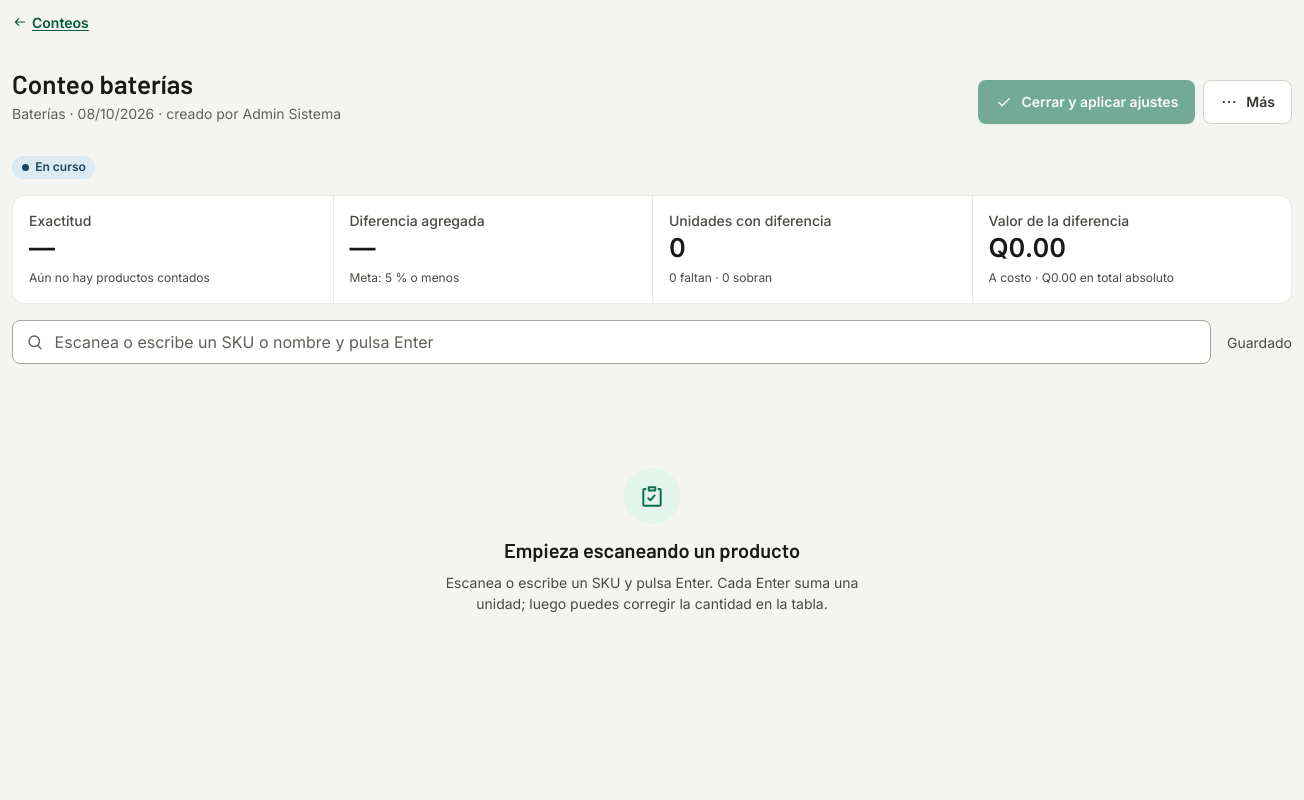
Test case: ConteoDetallePage › avisa cuando el SKU no existe en el alcance del conteo
Type "zzz" into the dropdown named "buscar o escanear" at x=612, y=342, box [12, 320, 1211, 364]
Then press Enter
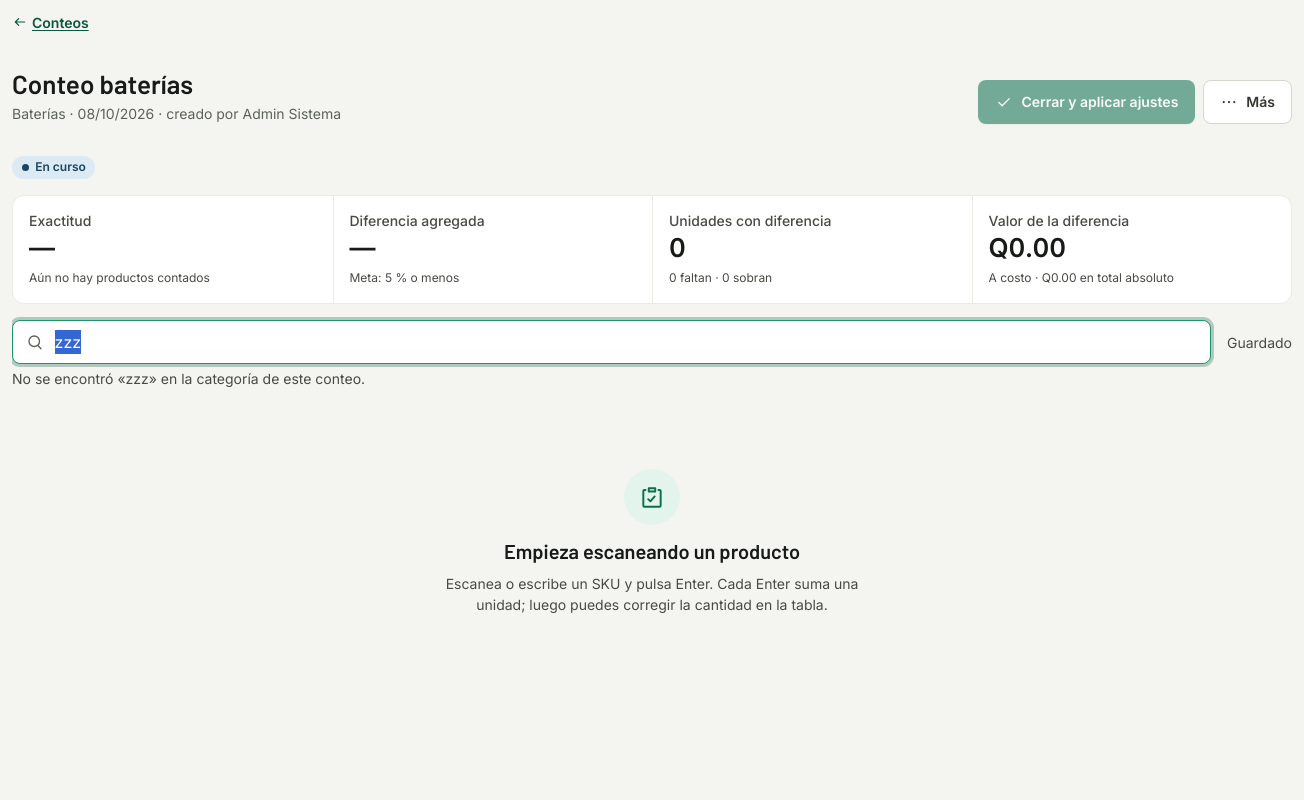
Now the text "No se encontró «zzz» en la categoría de este conteo." is shown, box [12, 370, 365, 387]
